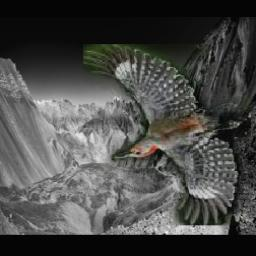Woodpecker: (82, 45, 250, 226)
